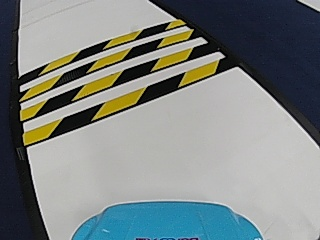bump: (28, 30, 180, 127)
